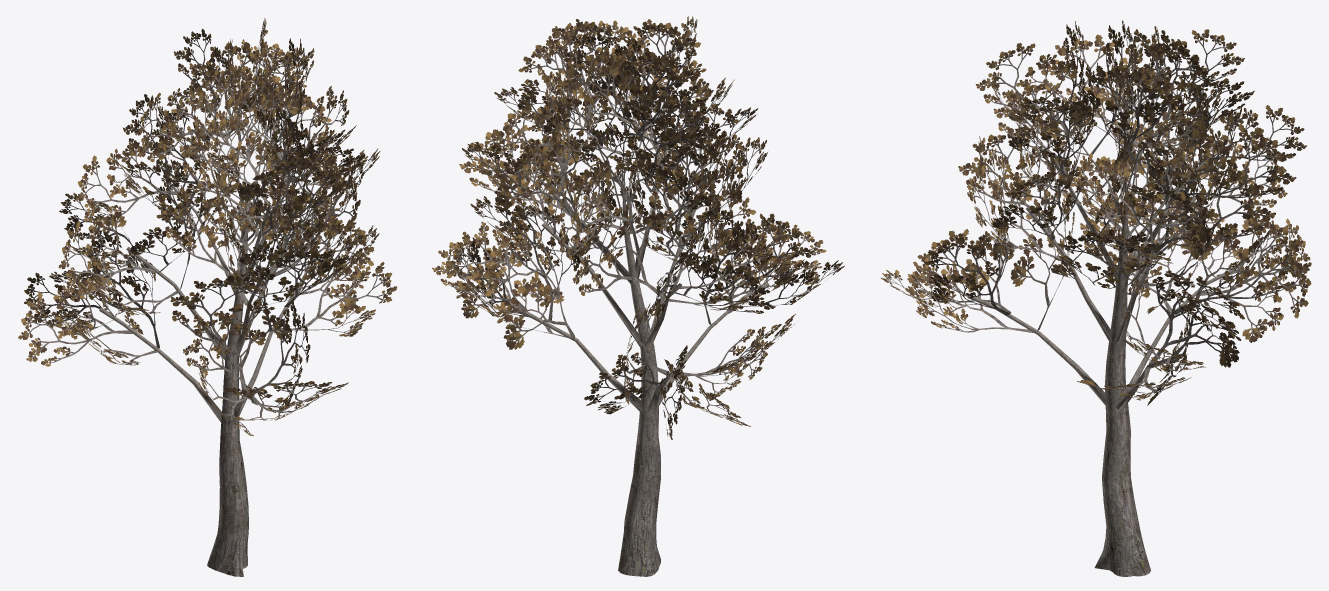
File: Arbol_pueblo_2.fbx
The picture shows the model from 3 angles, left to right: view 1: azimuth 30°, elevation 25°; view 2: azimuth 150°, elevation 25°; view 3: azimuth 270°, elevation 25°; orthographic projection. The views are drawn at different scales.
Parts seen in each view (by area): view 1: Arbol_pueblo_2; view 2: Arbol_pueblo_2; view 3: Arbol_pueblo_2.
Part boxes in pixels (x1,y1,x2,y2): Arbol_pueblo_2: (18, 18, 396, 576); Arbol_pueblo_2: (432, 16, 844, 576); Arbol_pueblo_2: (881, 20, 1311, 576).
Bounding box in the file's own units: 816 × 1224 × 871.
